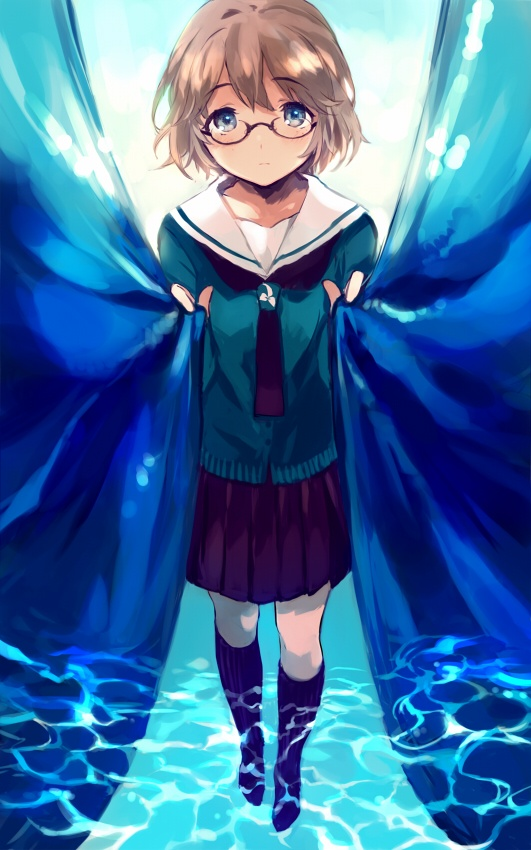纸片人正脸: (155, 0, 360, 193)
